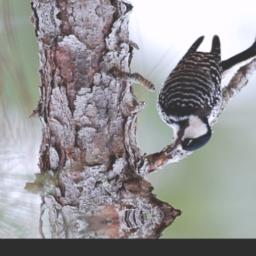Woodpecker: (142, 27, 256, 160)
